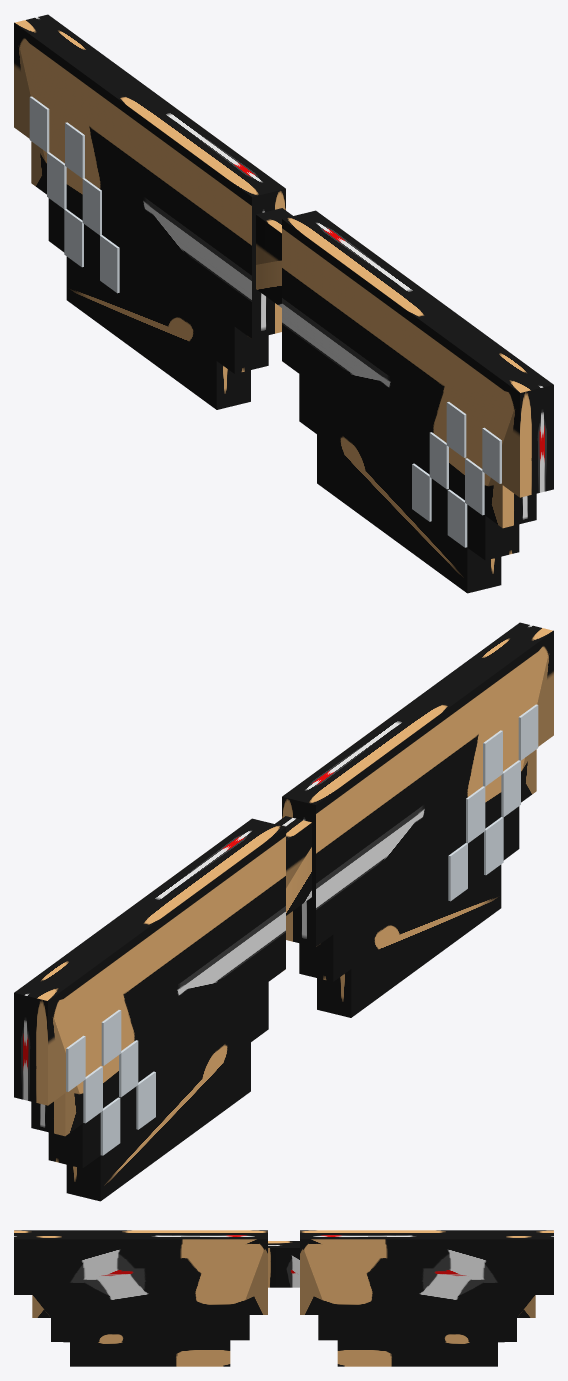
The model's file is kinh 5.FBX.
3 views of the same model, one above another, from view 1: azimuth 30°, elevation 25°; view 2: azimuth 150°, elevation 25°; view 3: azimuth 270°, elevation 25° (orthographic). The views are drawn at different scales.
Visible parts, largest first — view 1: Box1225; view 2: Box1225; view 3: Box1225.
Boxes of the visible parts, x1,y1,x2,y2 form: Box1225: [14, 14, 553, 593]; Box1225: [14, 622, 553, 1201]; Box1225: [14, 1230, 553, 1366].
Bounding box in the file's own units: 0.0573 × 0.3601 × 1.38.
